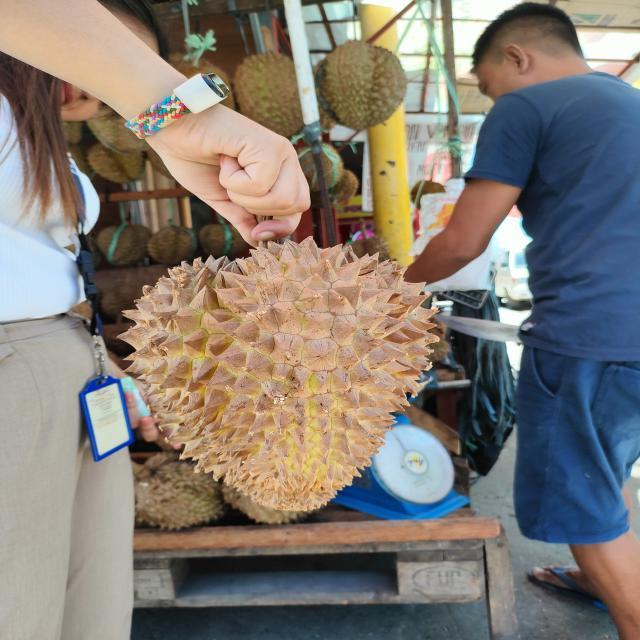mature: (113, 241, 438, 513)
